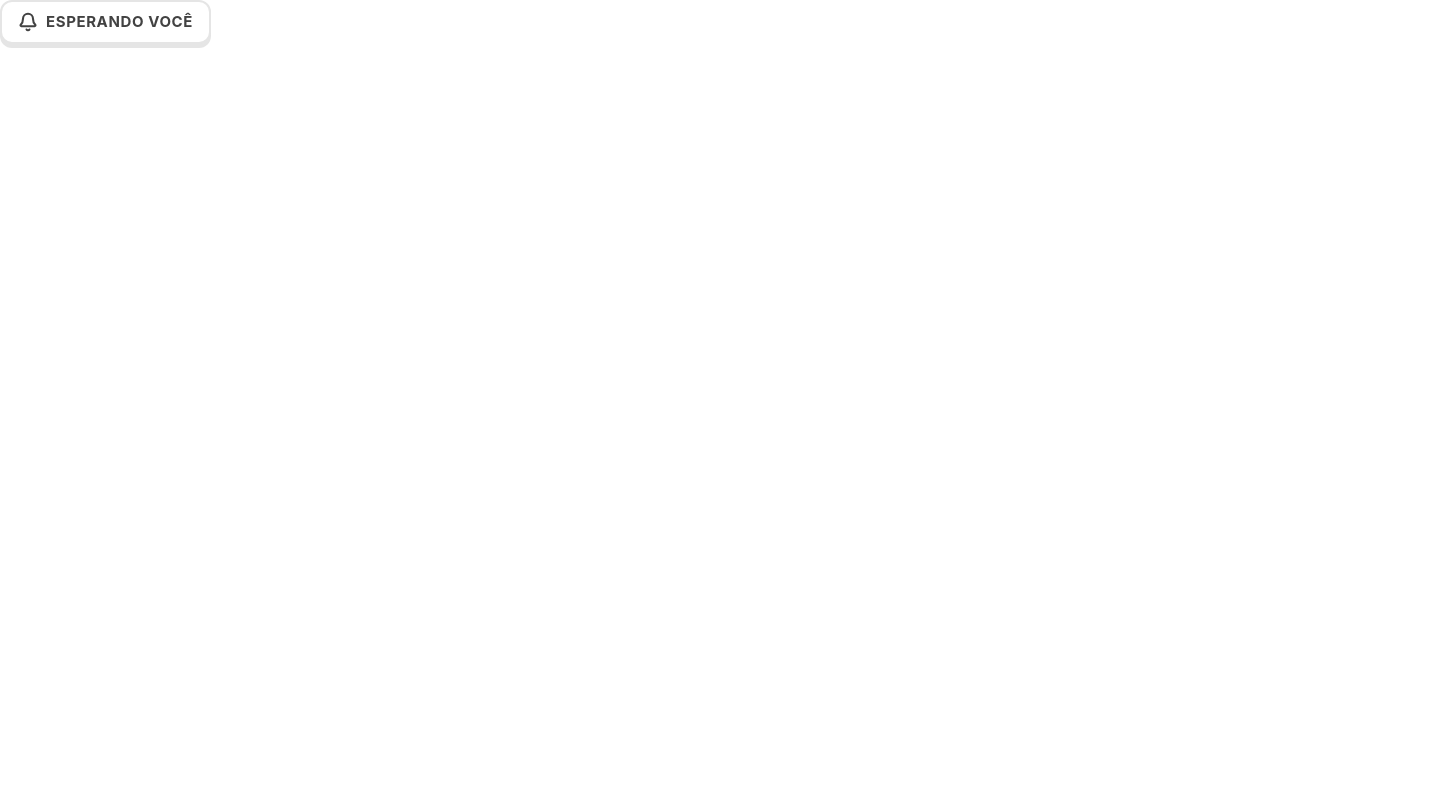
a lista "Esperando você" › o vazio é "Tudo em dia" com ícone ilustrado, sem mascote, e o link do que falta para a escola
Step 1. Click the button with aria-label "Esperando você, nada" → (106,22), box [0,0,211,44]
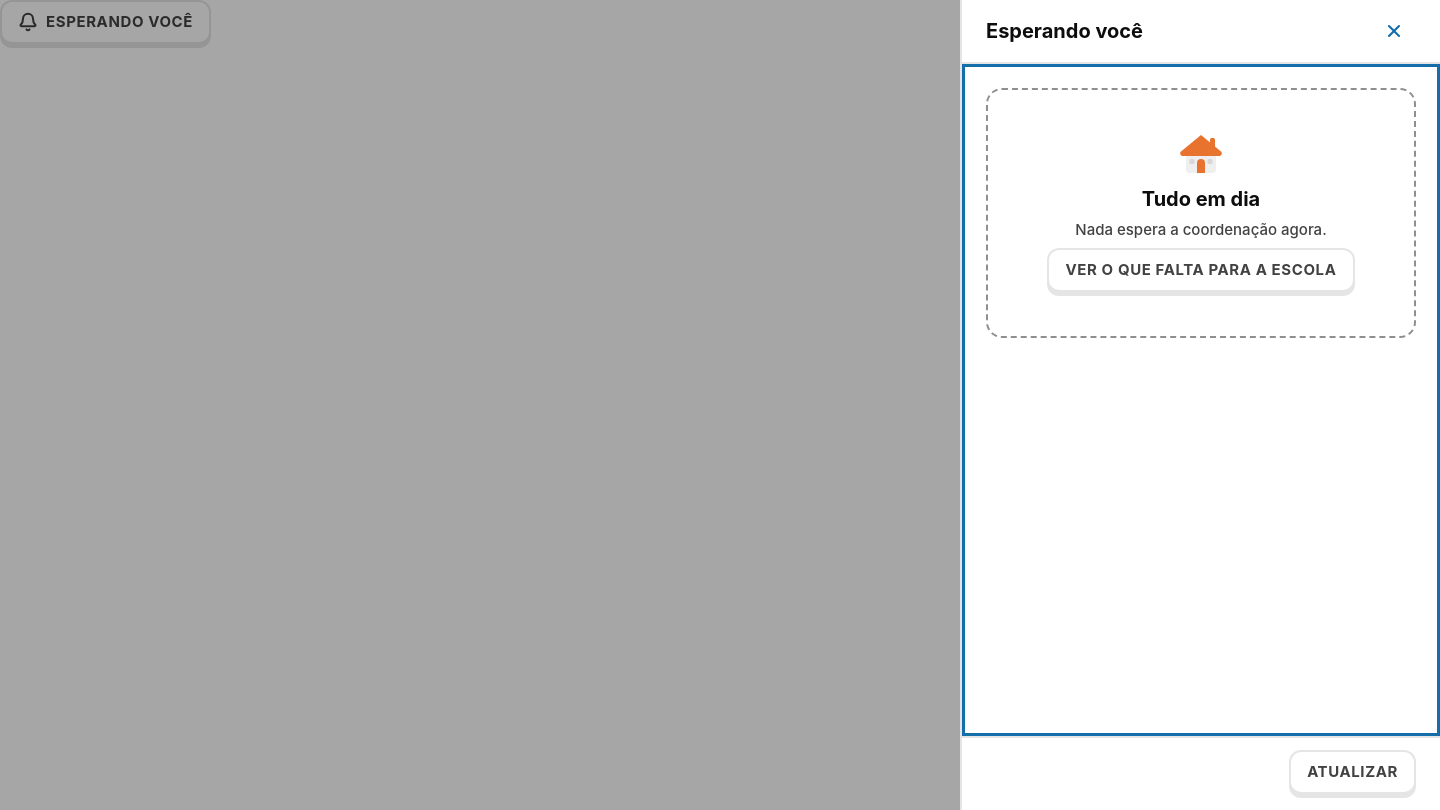
Result: the text "Tudo em dia" is shown at [1142,186,1260,212]
Result: the 2nd icon is shown at [1177,130,1225,178]
